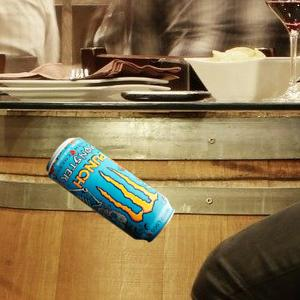can: (46, 137, 175, 243)
